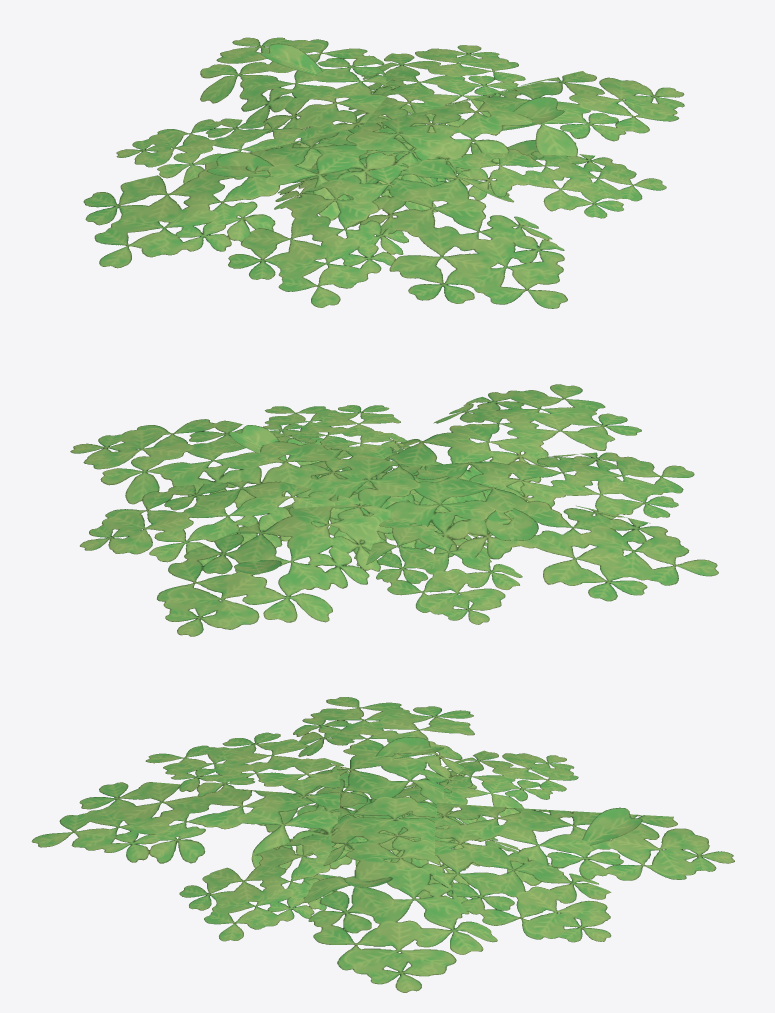
The model's file is LeafSetD_18.fbx.
The picture shows the model from 3 angles, top to bottom: view 1: azimuth 30°, elevation 25°; view 2: azimuth 150°, elevation 25°; view 3: azimuth 270°, elevation 25°; orthographic projection.
Visible parts, largest first — view 1: LeafSetD_18; view 2: LeafSetD_18; view 3: LeafSetD_18.
Boxes of the visible parts, box(x1,y1,x2,y2) form: LeafSetD_18: box(83, 37, 684, 308); LeafSetD_18: box(70, 384, 718, 636); LeafSetD_18: box(31, 697, 734, 992).
Bounding box in the file's own units: 1.74 × 0.1378 × 1.81.
